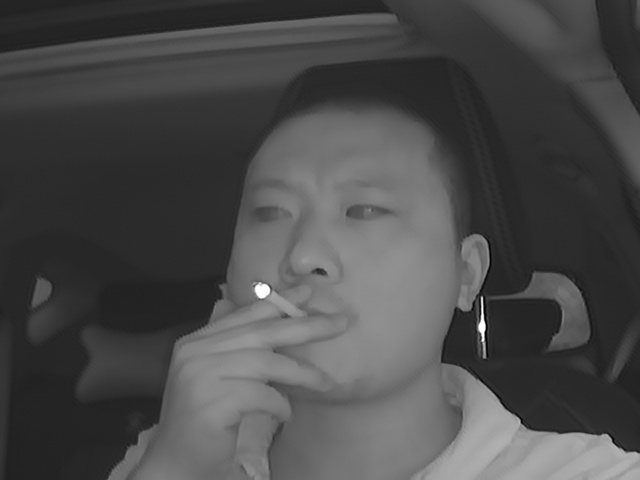hand: (183, 280, 348, 447)
